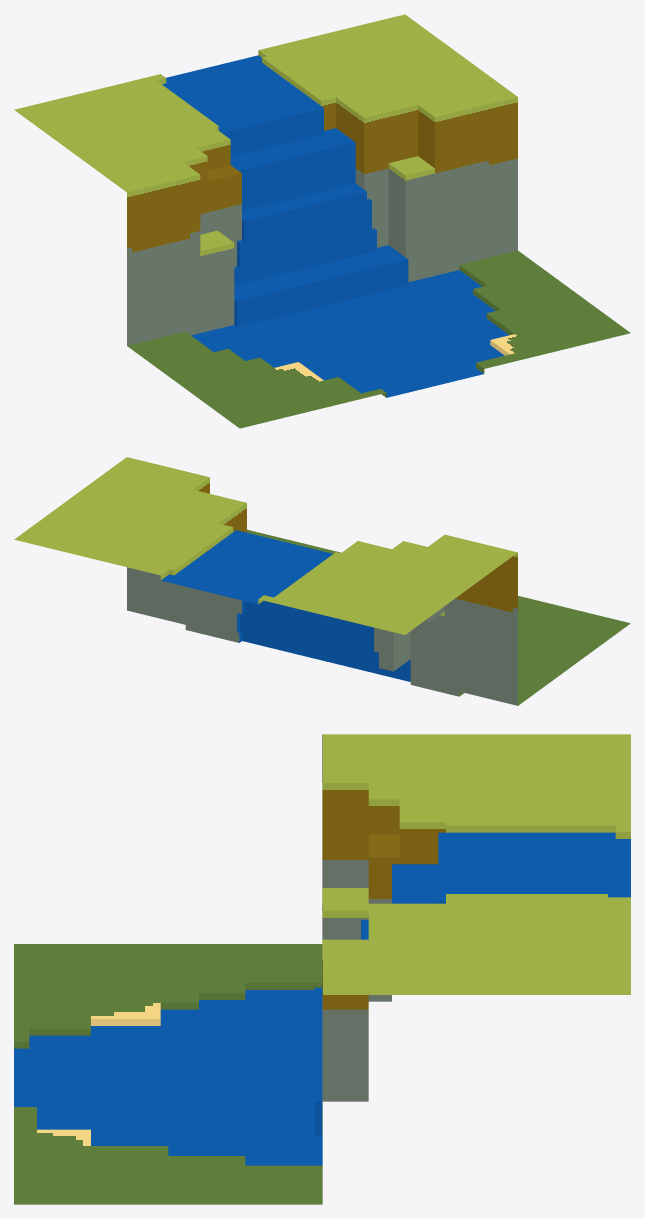
The model's file is MMLLR92(1).glb.
3 views of the same model, one above another, from view 1: azimuth 30°, elevation 25°; view 2: azimuth 150°, elevation 25°; view 3: azimuth 270°, elevation 25° (orthographic). The views are drawn at different scales.
Visible parts, largest first — view 1: model_0.047; view 2: model_0.047; view 3: model_0.047.
Boxes of the visible parts, x1,y1,x2,y2 form: model_0.047: (14,14,630,428); model_0.047: (14,457,630,705); model_0.047: (14,734,630,1204).
Size of the model in its own units: 80 by 31 by 80.
1 material, 1 textured.
